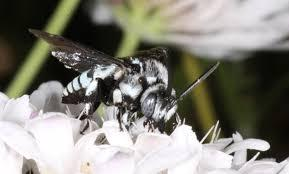Thyreus: (29, 15, 220, 142)
